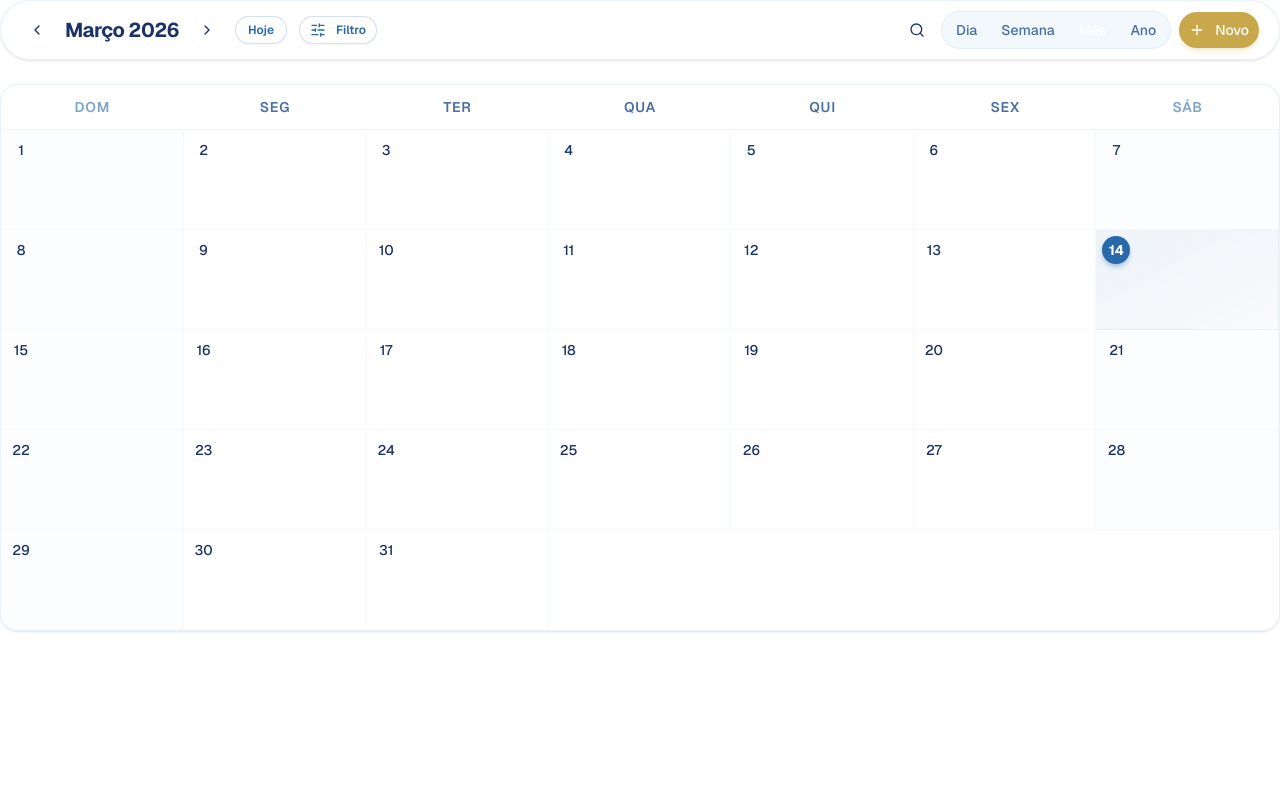
Test case: CalendarGrid › opens filter modal when clicking Filtro button
Click the button "Filtro".
click(338, 30)  # box [299, 16, 377, 44]
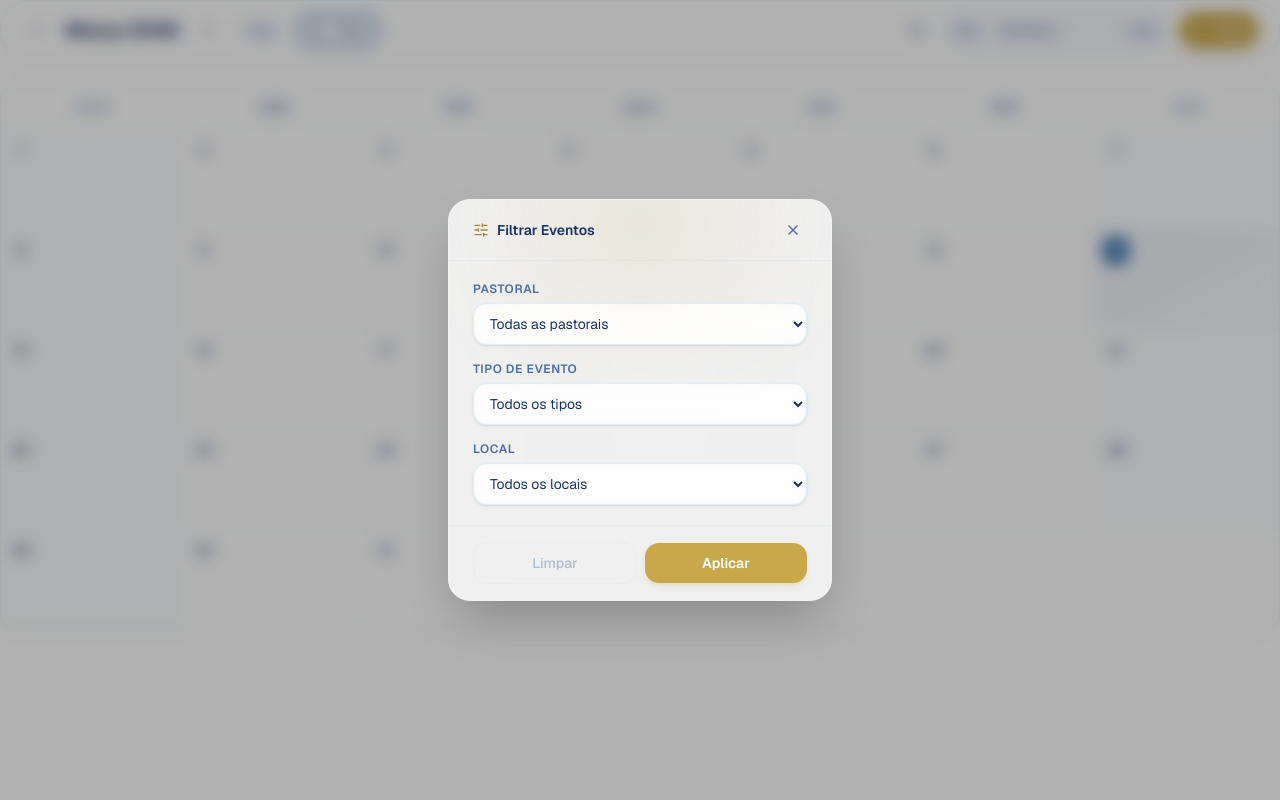
expect the button "Aplicar" is shown: met, box [645, 543, 807, 583]
